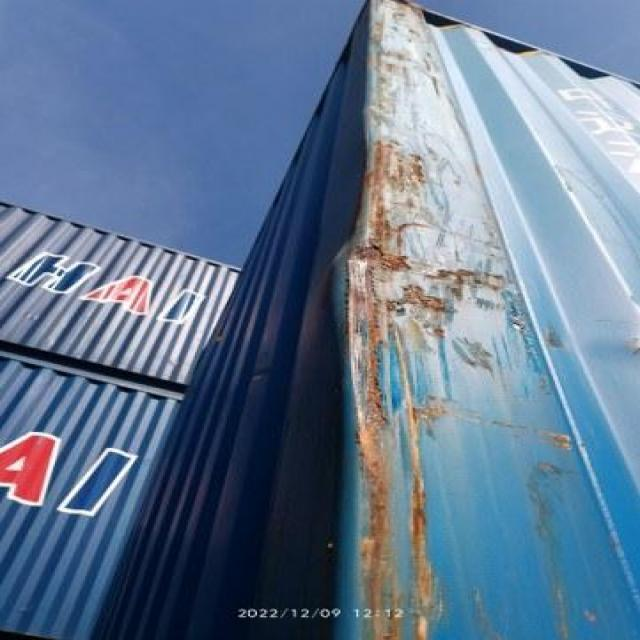rust: (345, 139, 459, 630)
